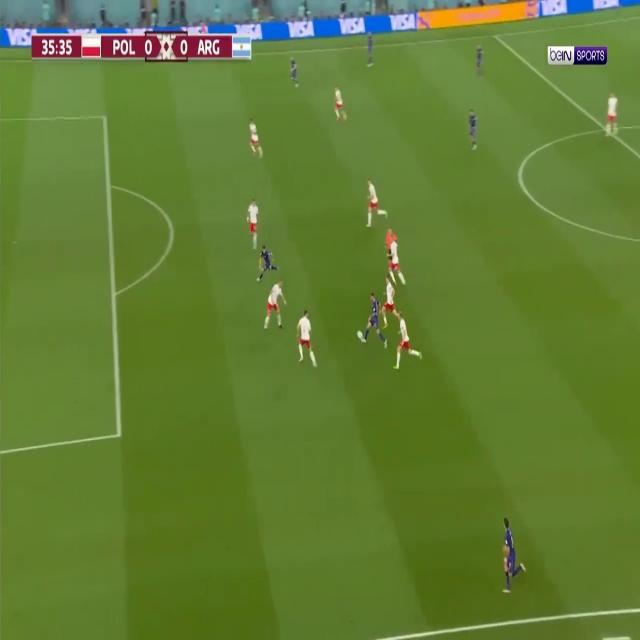Ball: (356, 327, 364, 342)
Referee: (384, 227, 398, 279), (200, 20, 207, 34)
TEAM 1: (502, 516, 526, 596), (361, 291, 389, 350), (257, 244, 279, 282), (468, 107, 479, 151), (366, 29, 376, 68), (475, 40, 484, 76), (290, 53, 299, 88)
TEAM 2: (393, 309, 424, 372), (262, 278, 288, 334), (296, 308, 318, 370), (381, 273, 403, 331), (366, 178, 389, 228), (387, 234, 408, 288), (605, 89, 620, 138), (248, 197, 260, 251), (249, 117, 264, 159), (334, 85, 348, 124)
